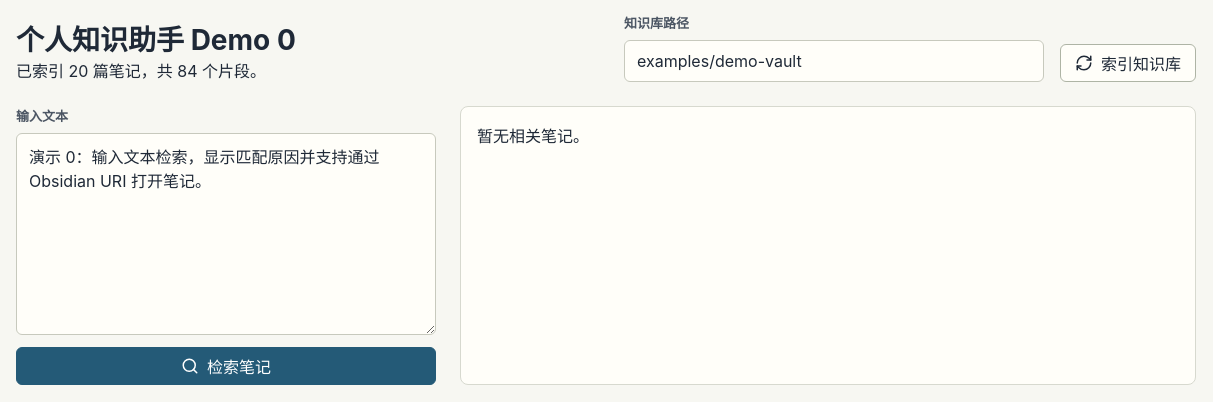
App › runs the manual transcript retrieval flow
This screenshot has width=1213, height=402.
expect the text "已索引 20 篇笔记，共 84 个片段。" is shown: met, box [16, 61, 266, 81]
Replace the text in the text box labelled "输入文本" with "演示文本检索，匹配原因和 Obsidian URI 打开" at point(226, 234), box [16, 133, 436, 335]
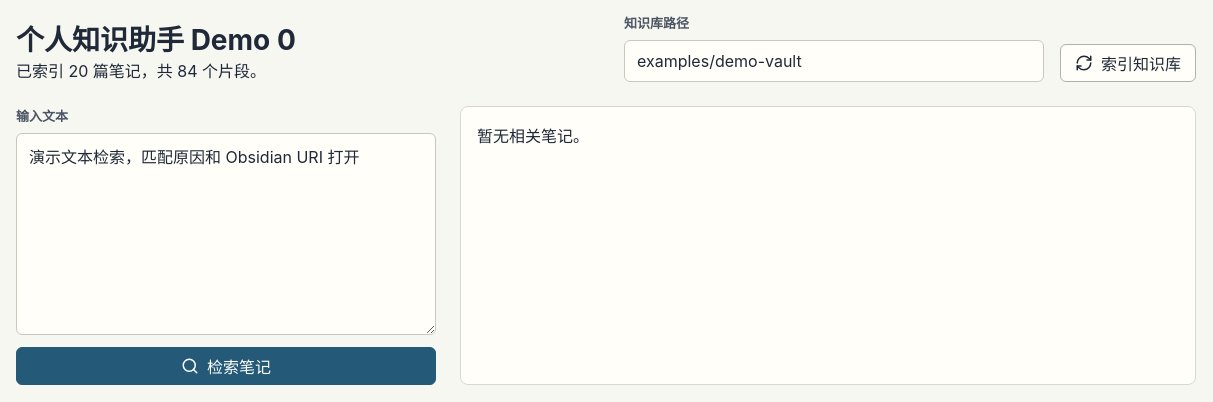
Click the button "检索笔记" at point(226, 366), box [16, 347, 436, 385]
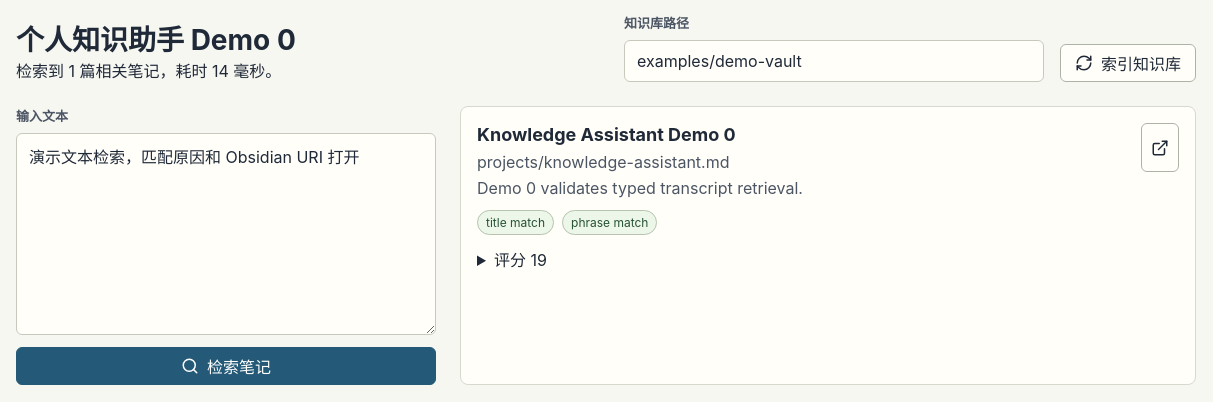
expect the heading "Knowledge Assistant Demo 0" is shown: met, box [477, 123, 736, 146]
expect the text "title match" is shown: met, box [477, 210, 554, 235]
